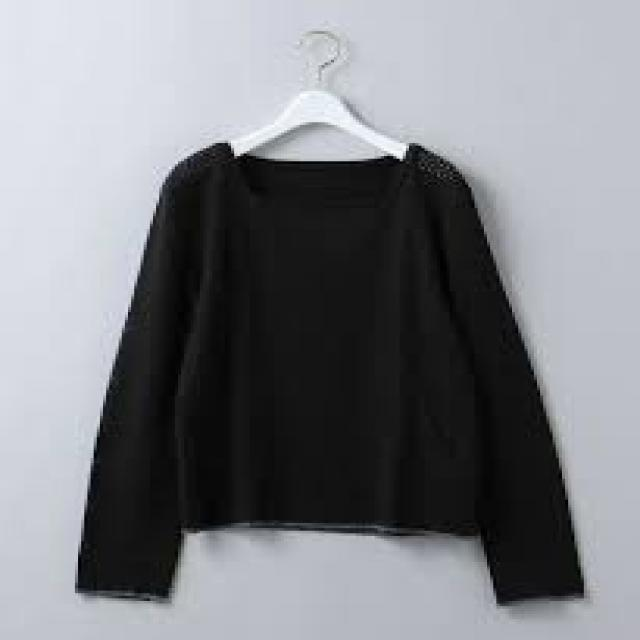plain: (73, 138, 593, 608)
